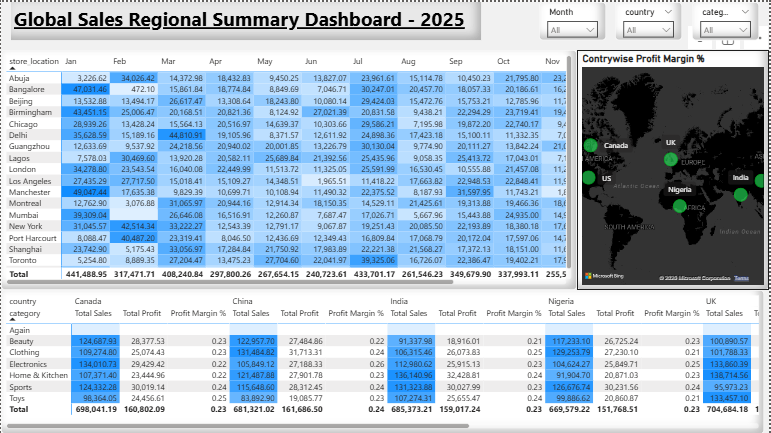

The page's visual inventory and layout, read from the dashboard file:
{"tool":"powerbi","page":{"name":"REGIONAL DEEP DIVE","canvas":[1280,720],"ordinal":1},"visuals":[{"type":"map","title":"Contrywise Profit Margin %","fields":{"Category":["DIM_STORE.country"],"Size":["sales fact_sales.Total Sales"]},"box":[960,80,320,400],"z":0},{"type":"pivotTable","fields":{"Columns":["DIM_STORE.country"],"Values":["sales fact_sales.Total Sales","sales fact_sales.Total Profit","sales fact_sales.Profit Margin %"],"Rows":["Dim_Product.category"]},"box":[0,480,1272,240],"z":1000},{"type":"pivotTable","fields":{"Rows":["DIM_STORE.store_location"],"Columns":["Dim_Date.Month Name"],"Values":["sales fact_sales.Total Sales"]},"box":[0,80,960,400],"z":3000},{"type":"textbox","box":[16,0,784,64],"z":3001},{"type":"slicer","fields":{"Values":["Dim_Date.Month Name"]},"box":[896,0,112,64],"z":3002},{"type":"slicer","fields":{"Values":["DIM_STORE.country"]},"box":[1024,0,112,64],"z":3003},{"type":"slicer","fields":{"Values":["Dim_Product.category"]},"box":[1152,0,112,64],"z":3004}]}

Visuals, with their boxes in screenshot pixels (x1, y1, x2, y2), scaled from the page's 1280x720 canvas onto the 771x433 screenshot:
"Contrywise Profit Margin %" map: box=[578, 48, 770, 289]
pivotTable - DIM_STORE.country x sales fact_sales.Total Sales: box=[0, 289, 766, 432]
pivotTable - DIM_STORE.store_location x Dim_Date.Month Name: box=[0, 48, 578, 289]
textbox: box=[10, 0, 482, 38]
slicer - Dim_Date.Month Name: box=[540, 0, 607, 38]
slicer - DIM_STORE.country: box=[617, 0, 684, 38]
slicer - Dim_Product.category: box=[694, 0, 761, 38]
